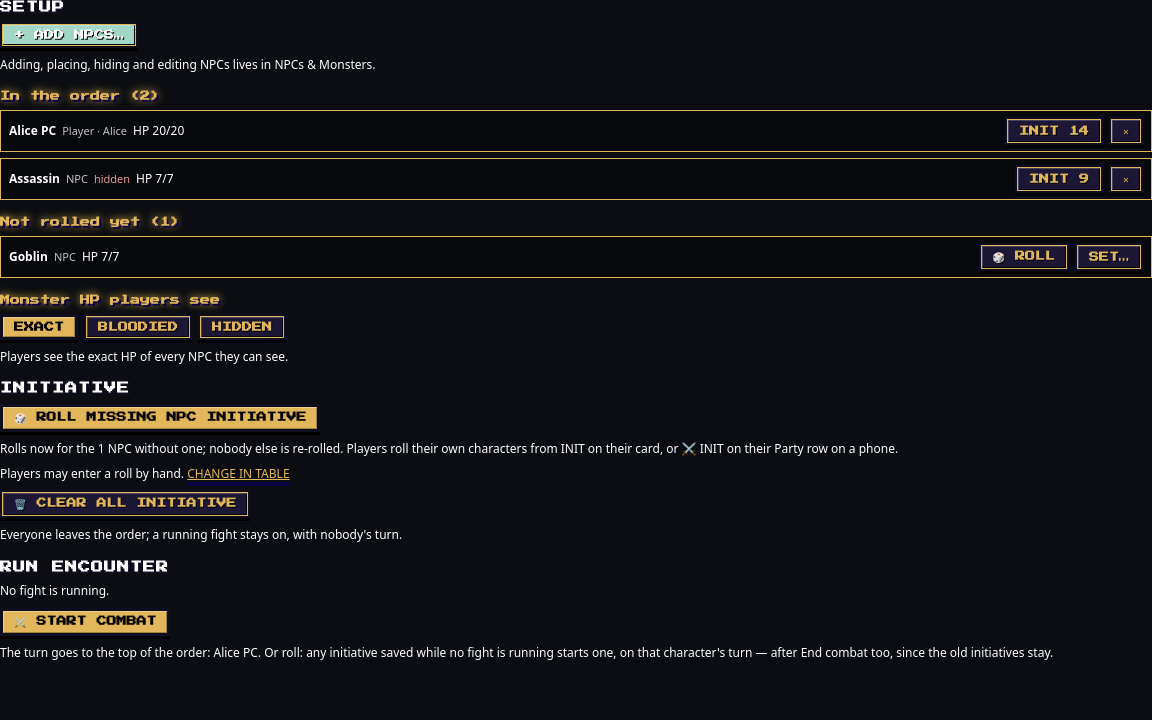
Test case: EncounterTab — the participant list › a rolled row's Init button opens the same dialog for that character
The width and height of the screenshot is (1152, 720).
Click the button with aria-label "Initiative 14: set for Alice PC": (1054,131) 1005,117 -> 1103,145
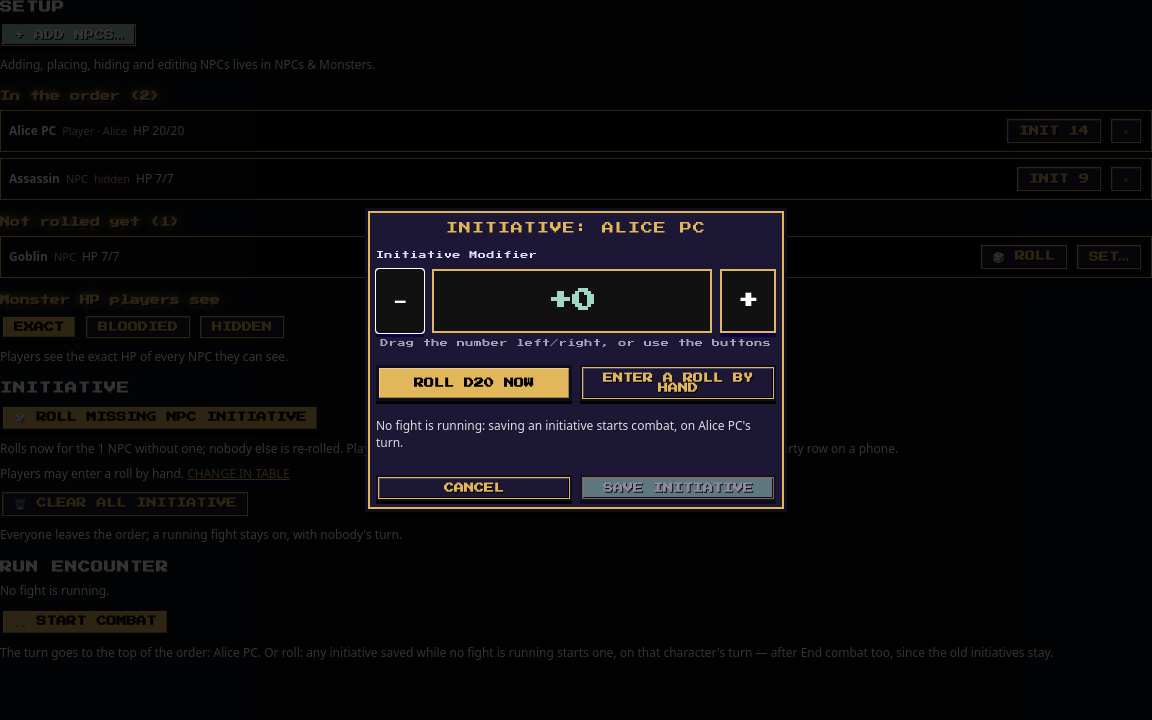
Result: the text "Initiative: Alice PC" is shown at 446,222 -> 706,234
